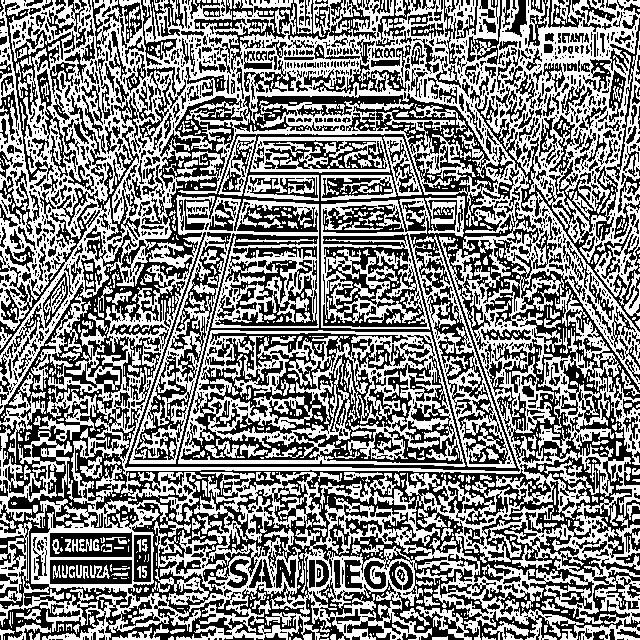left side: (382, 135, 518, 470), (125, 134, 258, 466)
player: (328, 340, 359, 438), (246, 84, 260, 132)
